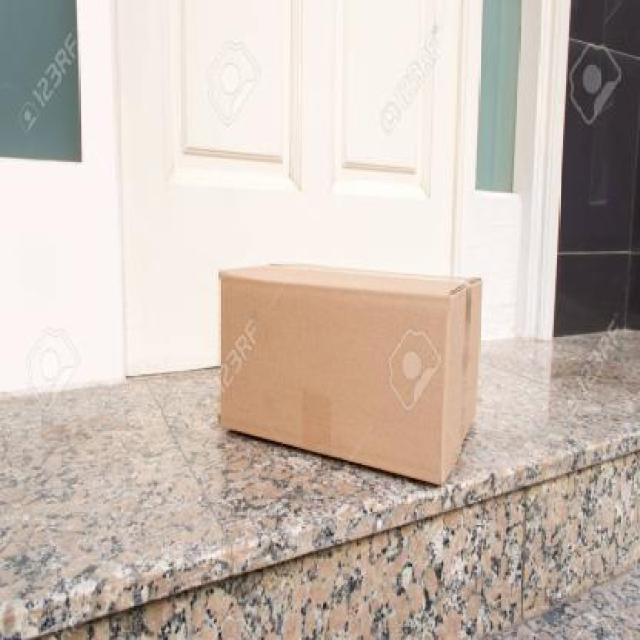box: (214, 248, 483, 492)
